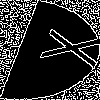X: (24, 25, 100, 69)
